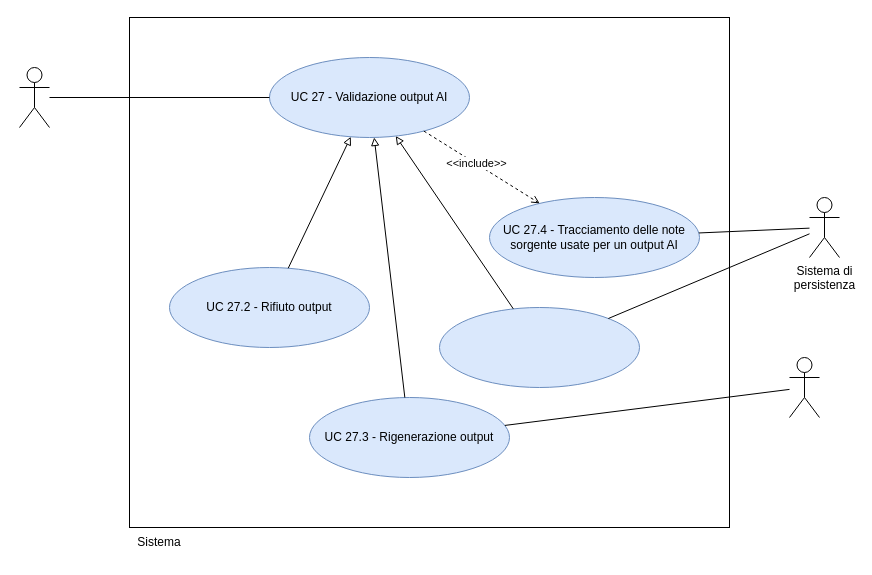
Some shapes in this 872 by 575 pixel diagram are drawn without their labels. Here are the shapes that lost their labels. From the top down, the centre of each, then its label:
At (x=34, y=97): "Utente".
At (x=539, y=347): "UC 27.1 - Accettazione output".
At (x=804, y=387): "LLM".
